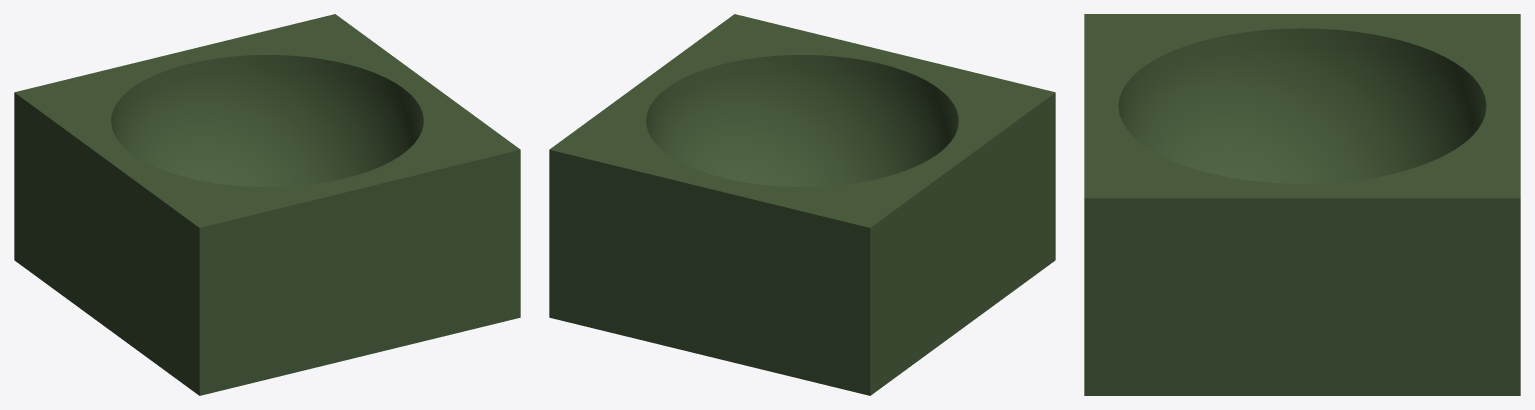
Rendered from board.glb.
The picture shows the model from 3 angles, left to right: view 1: azimuth 30°, elevation 25°; view 2: azimuth 150°, elevation 25°; view 3: azimuth 270°, elevation 25°; orthographic projection. The views are drawn at different scales.
Parts seen in each view (by area): view 1: Cube; view 2: Cube; view 3: Cube.
Part boxes in pixels (x1=…): Cube: x1=14, y1=14, x2=520, y2=395; Cube: x1=549, y1=14, x2=1055, y2=395; Cube: x1=1084, y1=14, x2=1520, y2=395.
Bounding box in the file's own units: 10 × 5 × 10.
